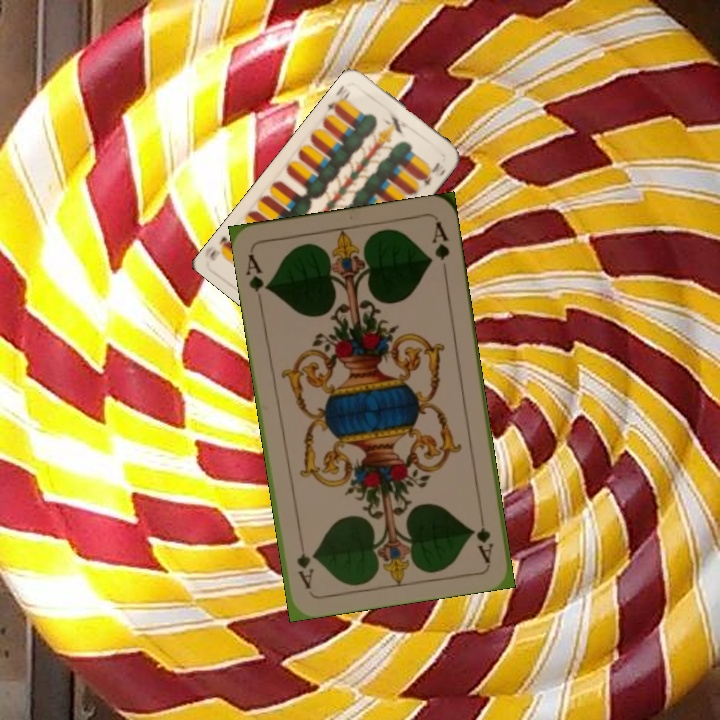E10: (323, 81, 353, 117)
GA: (472, 506, 496, 565), (242, 250, 273, 295)
